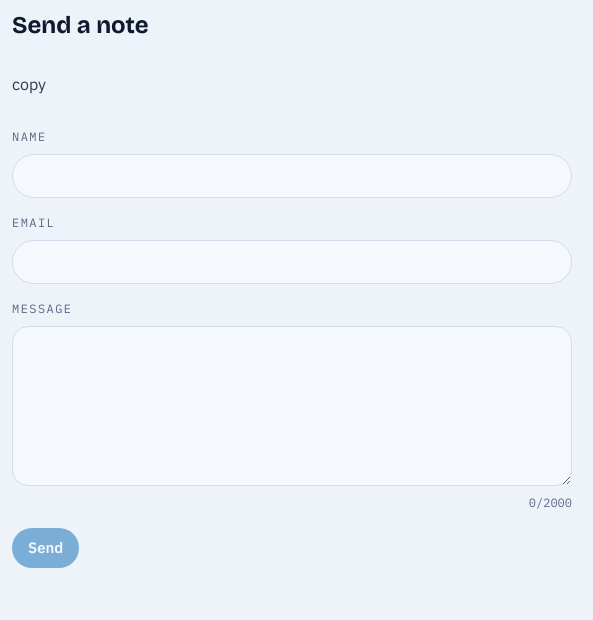
Test: ContactForm submit › 429 rate_limited disables submit and shows the try-again copy without body.message
Type "Bob" into the field labelled "Name". click: [292, 176]
box: [12,154,572,198]
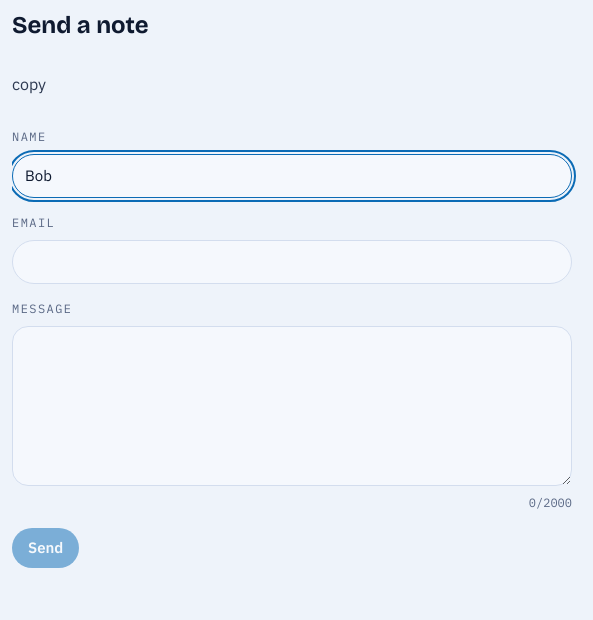
Type "b@x.co" into the field labelled "Email". click: [292, 262]
box: [12,240,572,284]
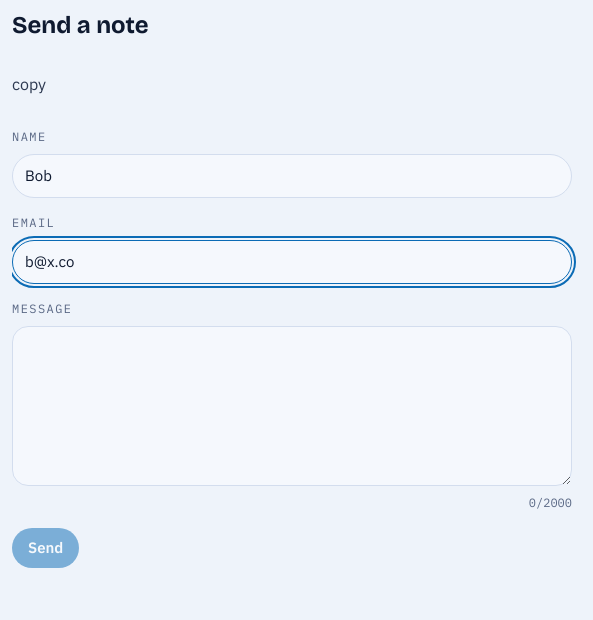
Type "hi" into the text box labelled "Message". click: [292, 406]
box: [12,326,572,486]
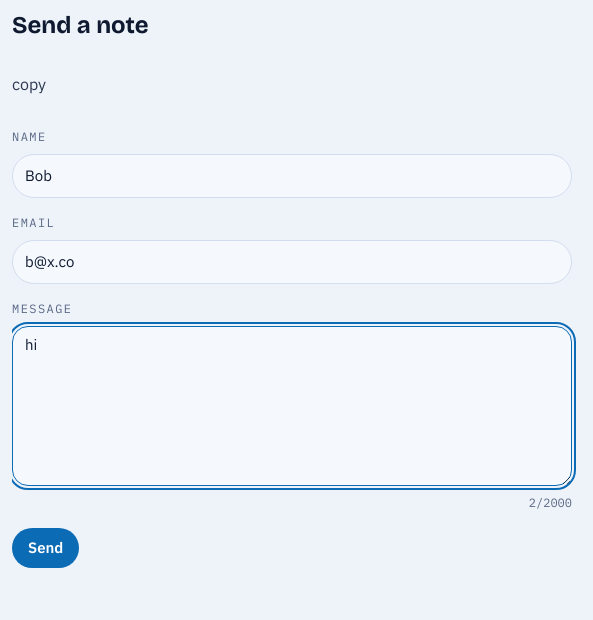
Click the button with test id "contact-submit". click: [46, 548]
box: [12,528,79,568]
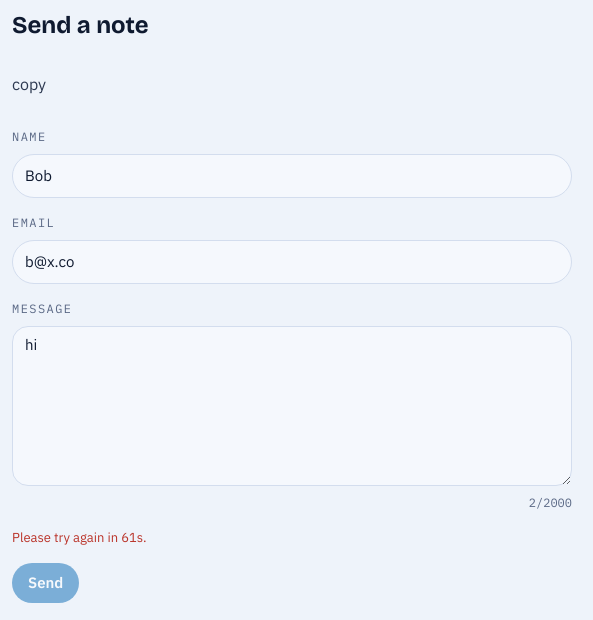
Expected: the message "Please try again in 61s." is shown, [12,529,147,546]
Expected: the button with test id "contact-submit" is disabled, [12,563,79,603]
